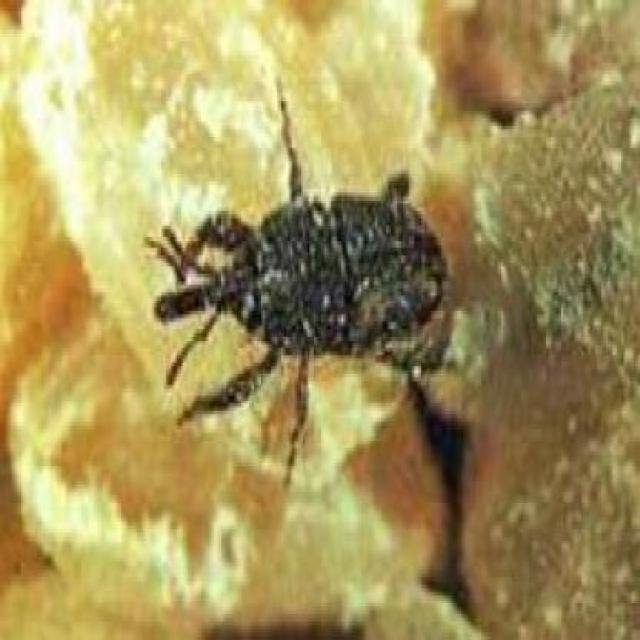rice-bug: (158, 122, 448, 449)
